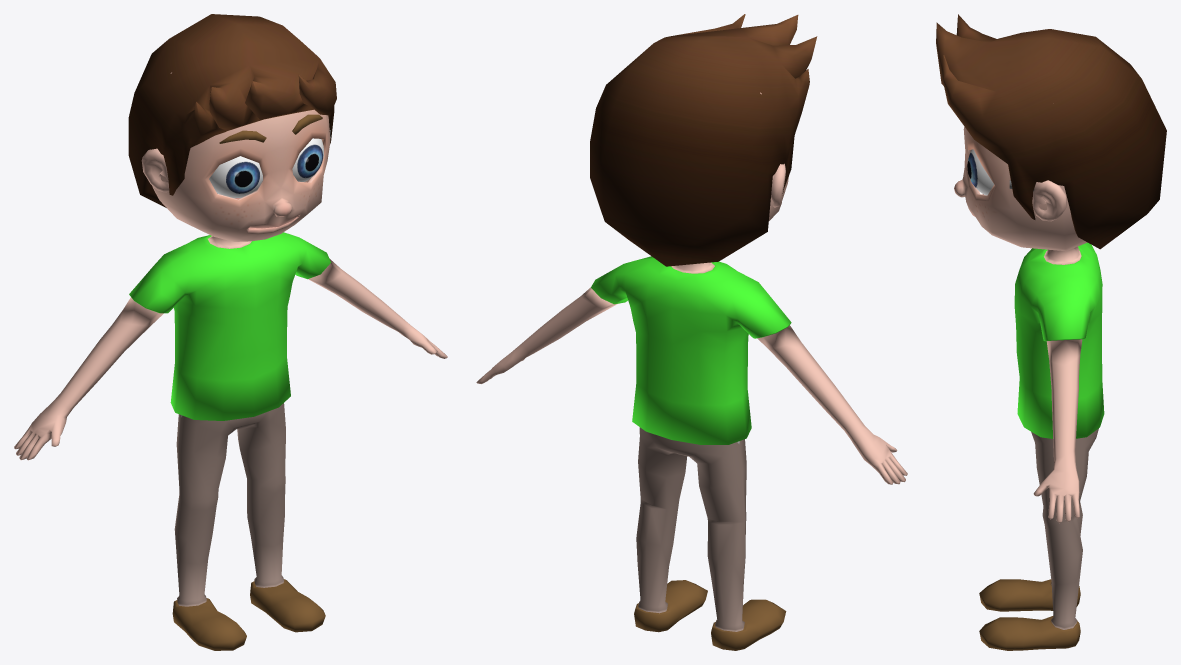
The model's file is Player.fbx.
3 views of the same model, side by side, from view 1: azimuth 30°, elevation 25°; view 2: azimuth 150°, elevation 25°; view 3: azimuth 270°, elevation 25° (orthographic).
Parts seen in each view (by area): view 1: boy; view 2: boy; view 3: boy.
Part boxes in pixels (x1,y1,x2,y2): boy: [14, 14, 447, 650]; boy: [476, 14, 907, 650]; boy: [936, 14, 1166, 650].
Bounding box in the file's own units: 275 × 365 × 131.
